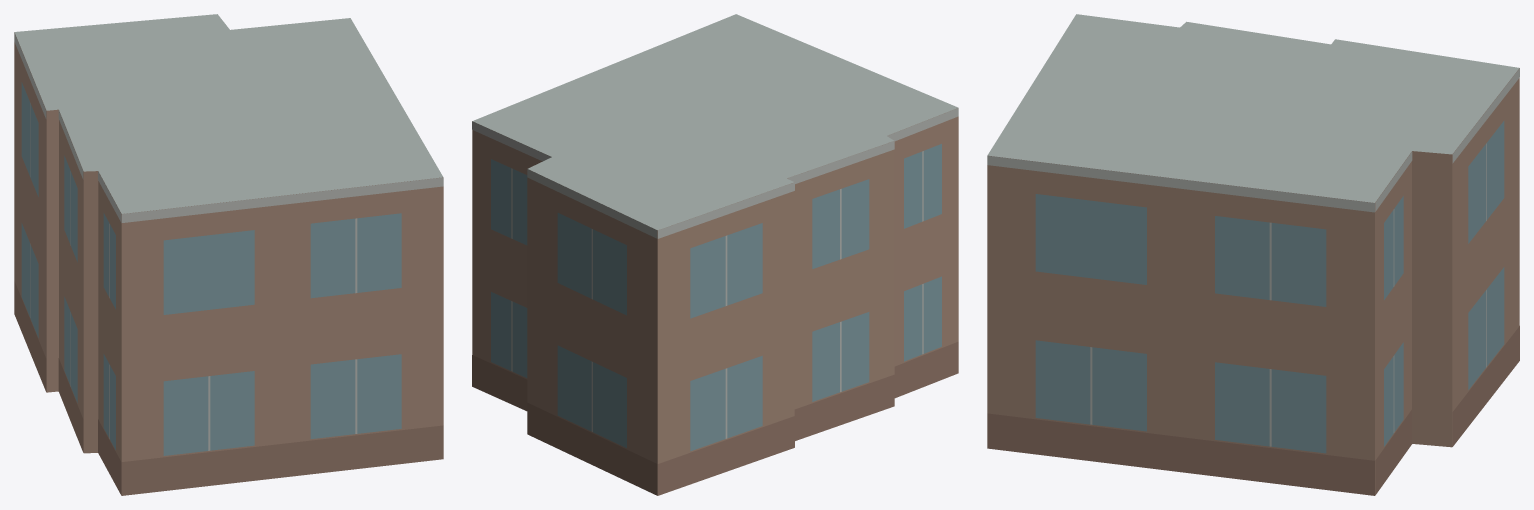
File: survey-upis-32494438.glb
3 views of the same model, side by side, from view 1: azimuth 30°, elevation 25°; view 2: azimuth 150°, elevation 25°; view 3: azimuth 270°, elevation 25° (orthographic). The views are drawn at different scales.
Parts seen in each view (by area): view 1: survey-upis-32494438.tmp; view 2: survey-upis-32494438.tmp; view 3: survey-upis-32494438.tmp.
Boxes of the visible parts, x1,y1,x2,y2 form: survey-upis-32494438.tmp: (14, 14, 443, 495); survey-upis-32494438.tmp: (472, 14, 958, 495); survey-upis-32494438.tmp: (987, 14, 1519, 495).
Size of the model in its own units: 10.39 by 7.5 by 12.37.
